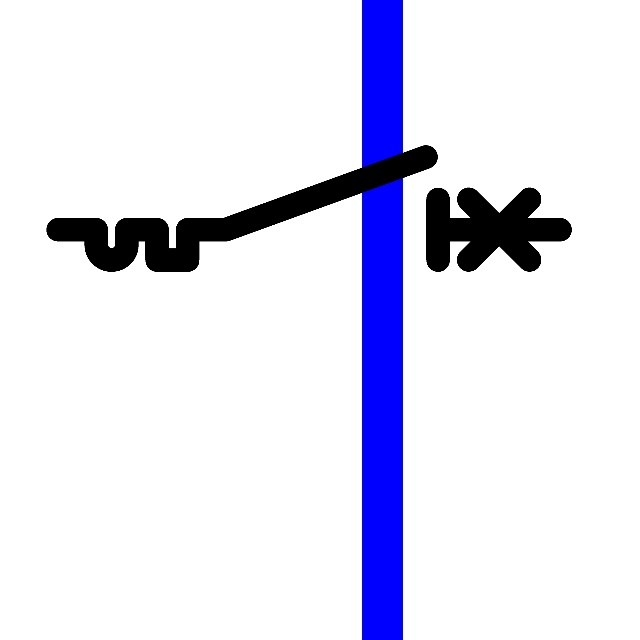interruptor_termomagnetico: (45, 144, 573, 273)
